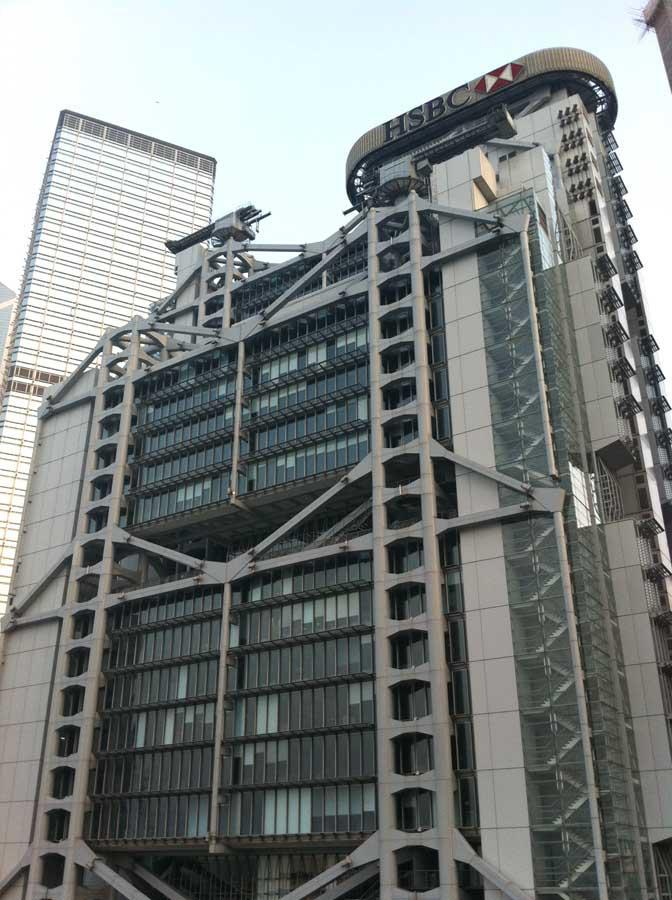affected: (49, 78, 672, 900)
